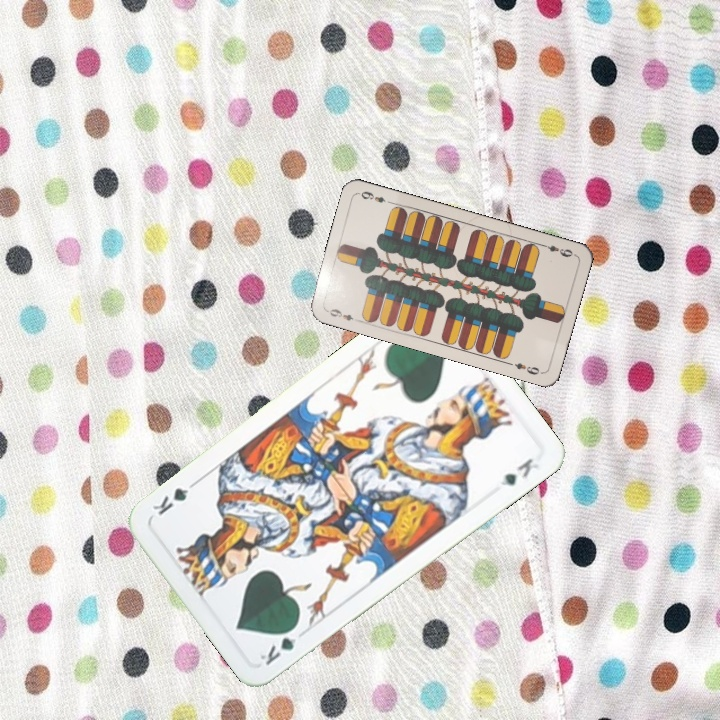E9: (323, 305, 362, 325), (538, 240, 576, 260)
GK: (256, 620, 302, 669)
